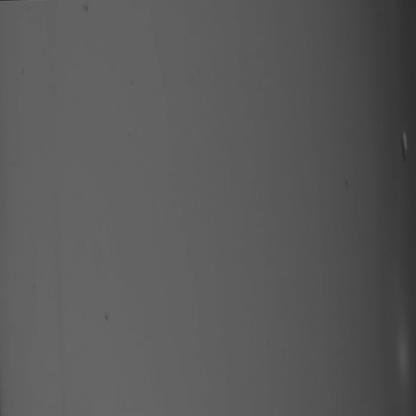kongdong: (394, 120, 416, 169)
